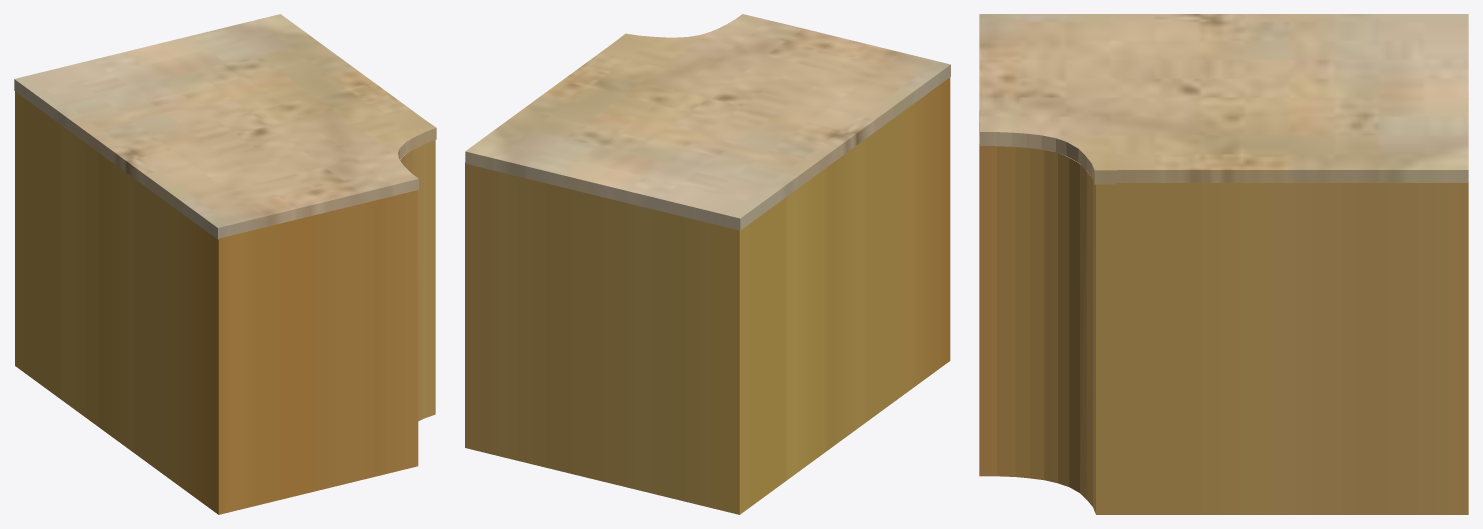
File: sweethome3d-contributions-wood-corner-cabinet-215.glb
The picture shows the model from 3 angles, left to right: view 1: azimuth 30°, elevation 25°; view 2: azimuth 150°, elevation 25°; view 3: azimuth 270°, elevation 25°; orthographic projection. The views are drawn at different scales.
Parts seen in each view (by area): view 1: PolyMesh_1, PolyMesh_1_1; view 2: PolyMesh_1, PolyMesh_1_1; view 3: PolyMesh_1, PolyMesh_1_1.
Part boxes in pixels (bbox=[...]): PolyMesh_1: bbox=[15, 91, 435, 514]; PolyMesh_1_1: bbox=[14, 14, 436, 239]; PolyMesh_1: bbox=[465, 77, 950, 514]; PolyMesh_1_1: bbox=[465, 14, 950, 230]; PolyMesh_1: bbox=[979, 124, 1468, 514]; PolyMesh_1_1: bbox=[979, 14, 1468, 184].
Size of the model in its own units: 3.3 by 3.4 by 4.37.
2 materials, 2 textured.
